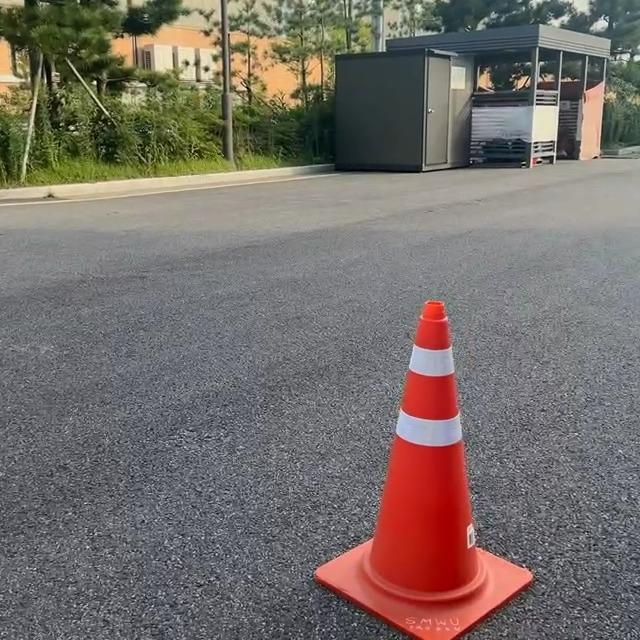fallen_object: (238, 234, 576, 640)
